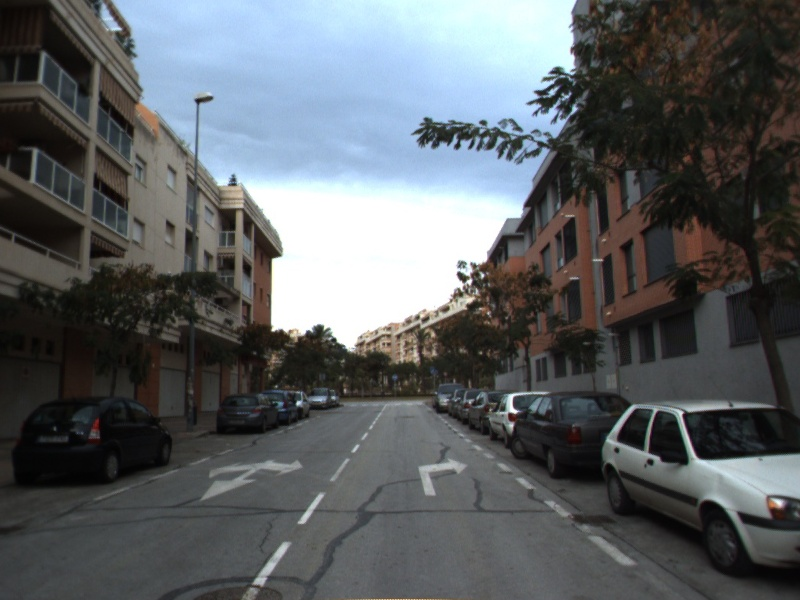RIGHT: (417, 456, 470, 497)
